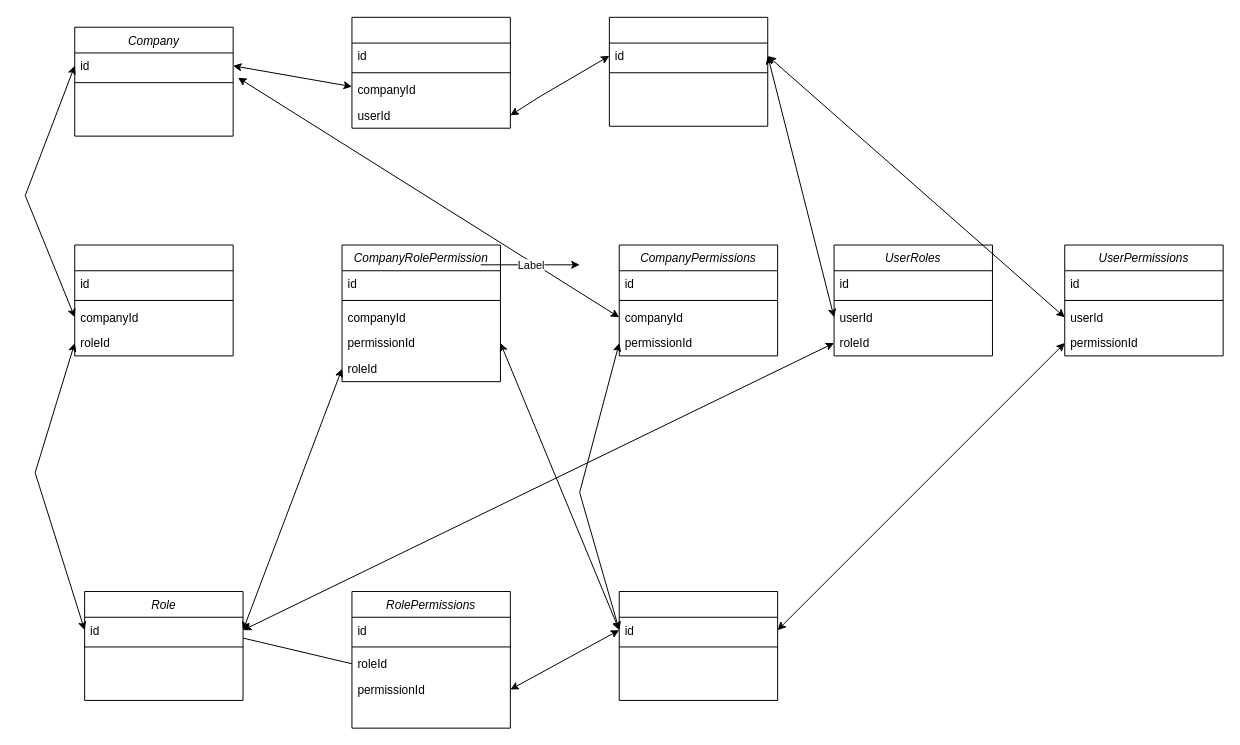
Image size: 1240x745. Some labels were removed from this diagram. Each missing label, with the box of its shape:
CompanyRoles: (74, 244, 233, 356)
CompanyUser: (351, 16, 510, 128)
Permission: (618, 591, 778, 700)
User: (608, 16, 768, 126)
